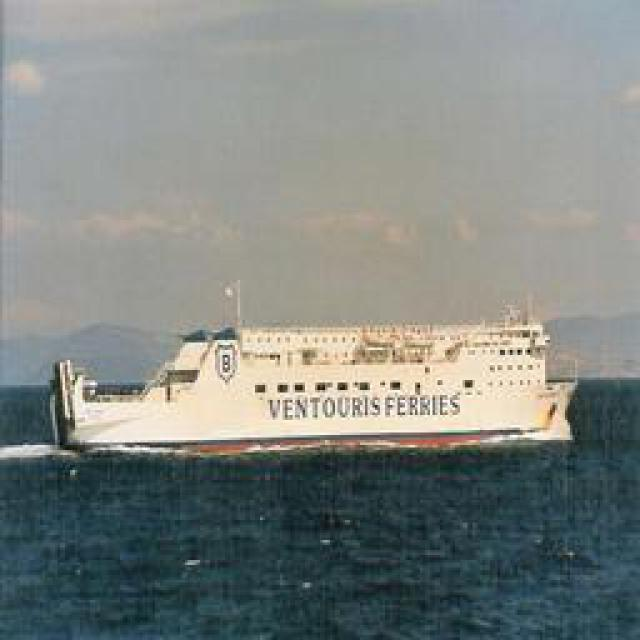Ship: (47, 302, 580, 455)
